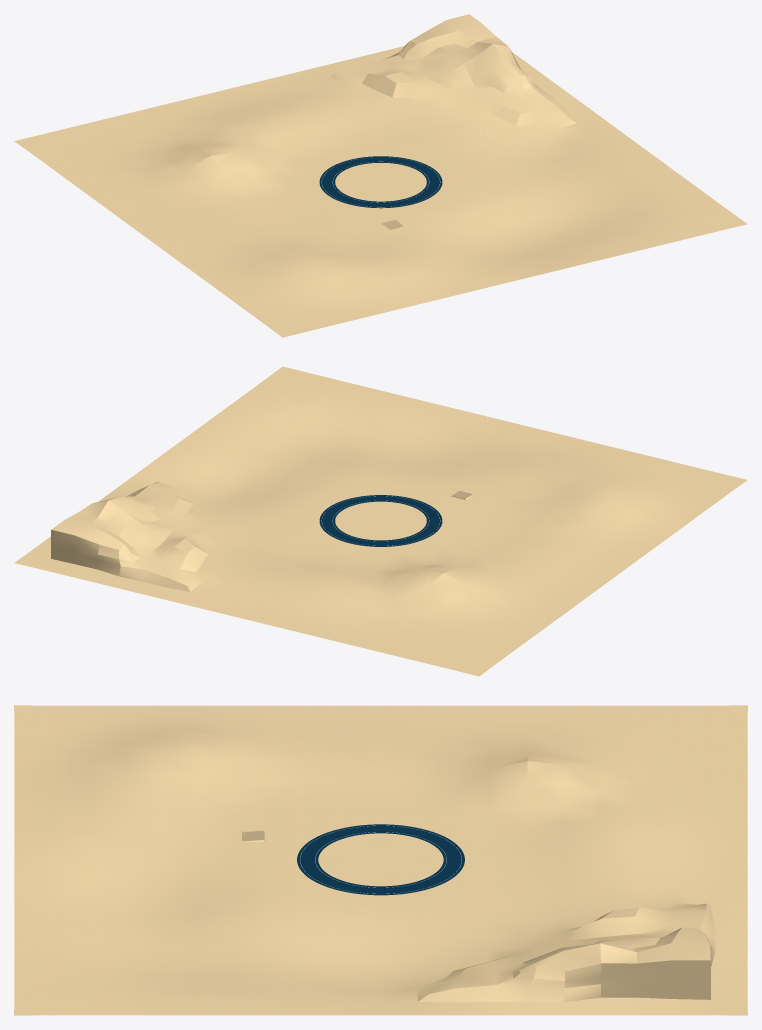
The model's file is Desert.glb.
3 views of the same model, one above another, from view 1: azimuth 30°, elevation 25°; view 2: azimuth 150°, elevation 25°; view 3: azimuth 270°, elevation 25° (orthographic). The views are drawn at different scales.
Parts seen in each view (by area): view 1: map-col; view 2: map-col; view 3: map-col.
Part boxes in pixels (<box>): map-col: <box>14,14,747,337</box>; map-col: <box>14,366,747,676</box>; map-col: <box>14,705,747,1015</box>.
Size of the model in its own units: 501 by 41.87 by 501.
4 materials, 4 textured.
